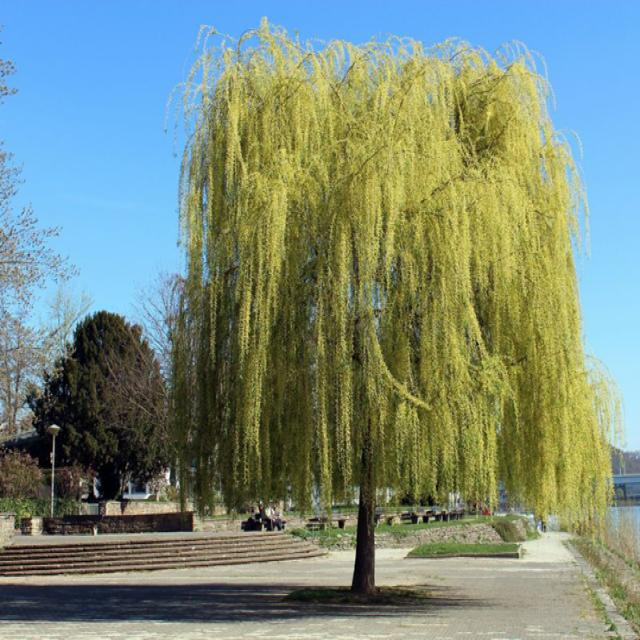cauce: (174, 27, 606, 606)
